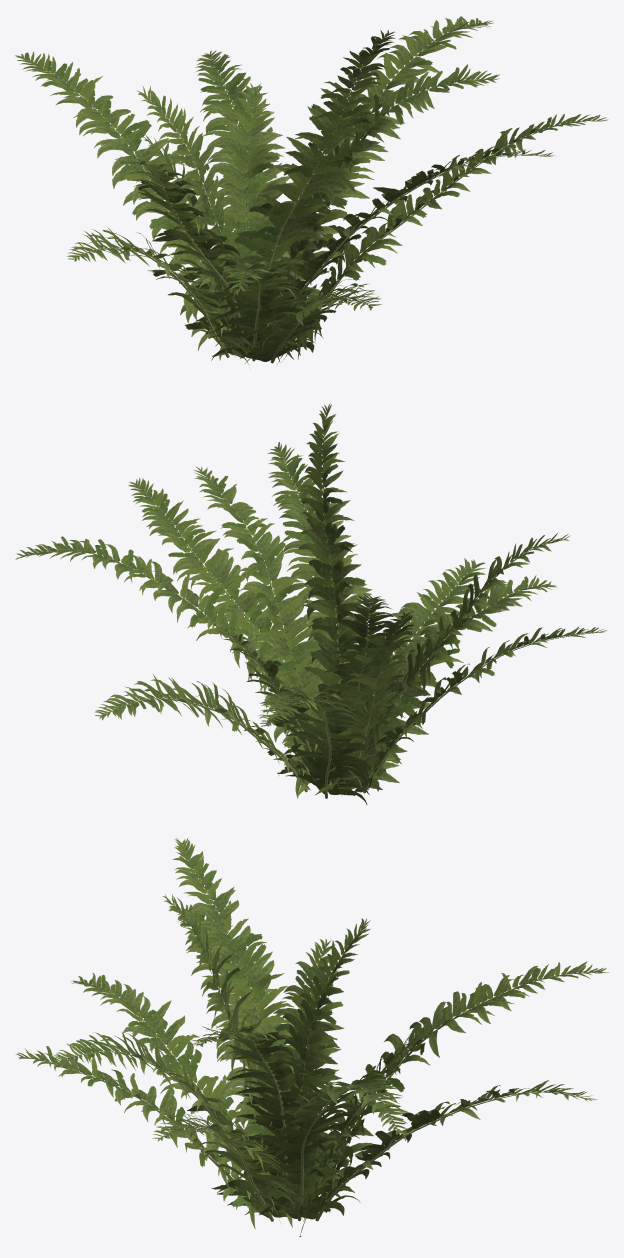
File: nephrolepis-tropical-fern.glb
3 renders of one model, top to bottom at view 1: azimuth 30°, elevation 25°; view 2: azimuth 150°, elevation 25°; view 3: azimuth 270°, elevation 25°, orthographic. The views are drawn at different scales.
Visible parts, largest first — view 1: Ferm; view 2: Ferm; view 3: Ferm.
Part boxes in pixels (x1,y1,x2,y2): Ferm: (15,16,608,365); Ferm: (15,403,607,805); Ferm: (15,838,608,1236).
Bounding box in the file's own units: 0.7442 × 0.4716 × 0.7175.
Materials: 4 (4 with a texture image).
